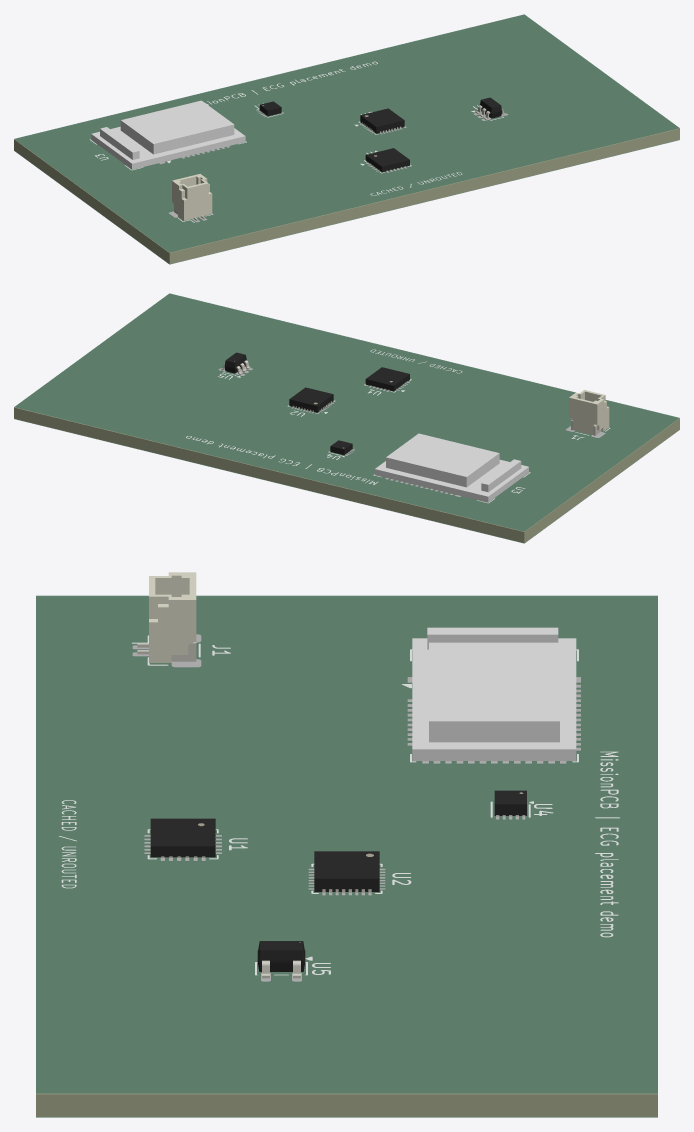
File: initial.glb
3 renders of one model, top to bottom at view 1: azimuth 30°, elevation 25°; view 2: azimuth 150°, elevation 25°; view 3: azimuth 270°, elevation 25°, orthographic. The views are drawn at different scales.
Visible parts, largest first — view 1: =>[0:1:1:18], =>[0:1:1:16], =>[0:1:1:7], =>[0:1:1:13], =>[0:1:1:15], =>[0:1:1:5], =>[0:1:1:11], =>[0:1:1:17], =>[0:1:1:9], =>[0:1:1:14]; view 2: =>[0:1:1:18], =>[0:1:1:16], =>[0:1:1:7], =>[0:1:1:13], =>[0:1:1:15], =>[0:1:1:5], =>[0:1:1:11], =>[0:1:1:17], =>[0:1:1:14], =>[0:1:1:9]; view 3: =>[0:1:1:18], =>[0:1:1:16], =>[0:1:1:7], =>[0:1:1:13], =>[0:1:1:15], =>[0:1:1:5], =>[0:1:1:11], =>[0:1:1:14], =>[0:1:1:9], =>[0:1:1:3].
Part boxes in pixels (x1,y1,x2,y2): =>[0:1:1:18]: [14, 15, 679, 264]; =>[0:1:1:16]: [14, 14, 679, 252]; =>[0:1:1:7]: [91, 100, 245, 169]; =>[0:1:1:13]: [172, 174, 212, 220]; =>[0:1:1:15]: [90, 61, 503, 222]; =>[0:1:1:5]: [360, 108, 404, 133]; =>[0:1:1:11]: [365, 148, 409, 172]; =>[0:1:1:17]: [14, 140, 679, 264]; =>[0:1:1:9]: [476, 97, 505, 119]; =>[0:1:1:14]: [159, 111, 507, 222]; =>[0:1:1:18]: [14, 294, 679, 543]; =>[0:1:1:16]: [14, 293, 679, 531]; =>[0:1:1:7]: [374, 433, 528, 502]; =>[0:1:1:13]: [569, 390, 609, 435]; =>[0:1:1:15]: [186, 349, 610, 503]; =>[0:1:1:5]: [289, 387, 333, 412]; =>[0:1:1:11]: [365, 367, 409, 391]; =>[0:1:1:17]: [14, 419, 679, 543]; =>[0:1:1:14]: [218, 367, 605, 497]; =>[0:1:1:9]: [221, 352, 250, 374]; =>[0:1:1:18]: [36, 597, 657, 1116]; =>[0:1:1:16]: [36, 595, 657, 1093]; =>[0:1:1:7]: [412, 627, 576, 760]; =>[0:1:1:13]: [137, 572, 196, 662]; =>[0:1:1:15]: [59, 635, 619, 975]; =>[0:1:1:5]: [314, 851, 379, 892]; =>[0:1:1:11]: [150, 818, 215, 857]; =>[0:1:1:14]: [132, 634, 580, 981]; =>[0:1:1:9]: [257, 941, 305, 978]; =>[0:1:1:3]: [494, 790, 526, 816].
Size of the model in its own units: 0.072 by 0.00596 by 0.038.
